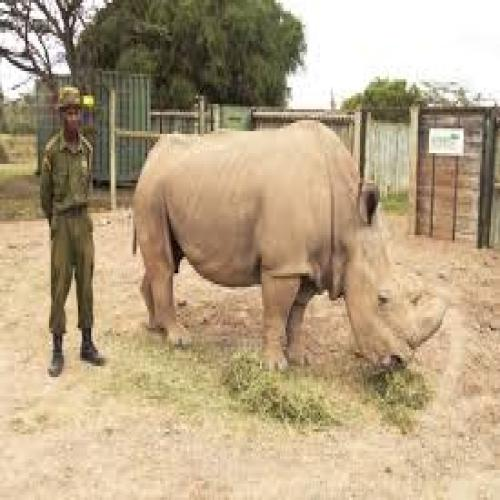rhino-endangered: (127, 121, 446, 376)
